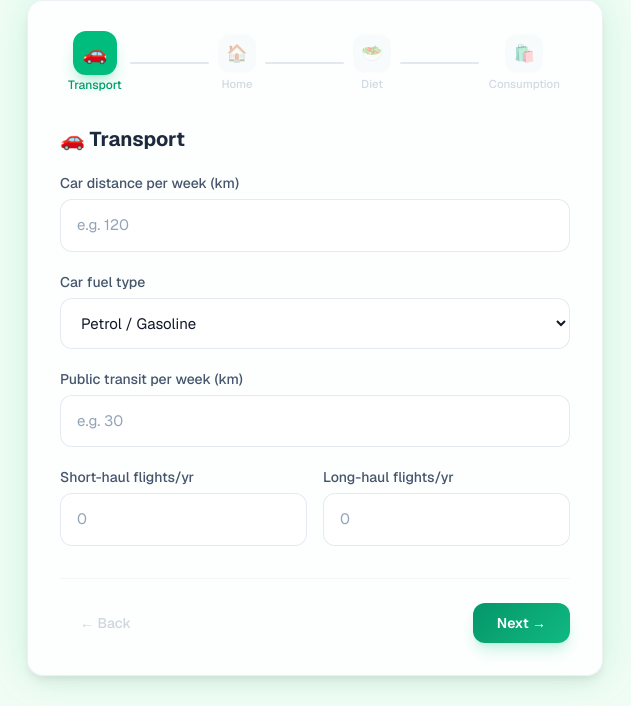
CarbonForm › navigates back from step 2
The width and height of the screenshot is (631, 706).
Click the button "Next →".
click(521, 622)  # box [473,602,570,642]
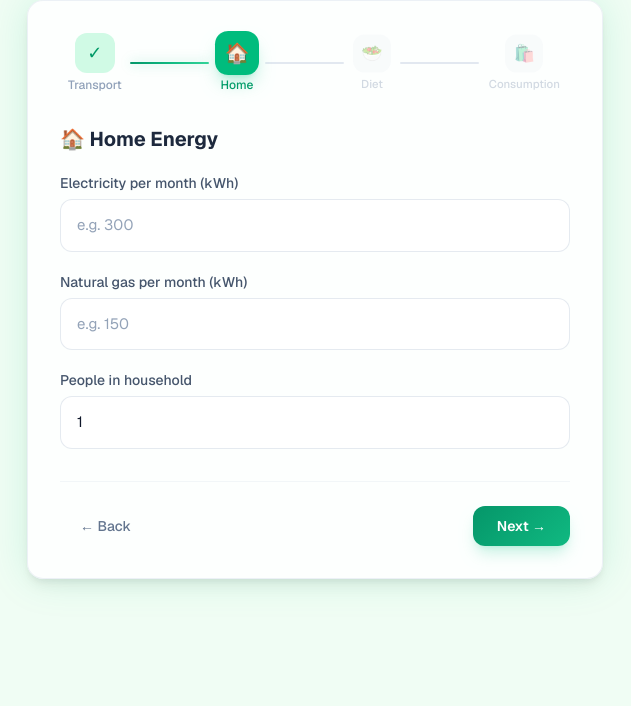
Click the button "← Back".
click(106, 526)  # box [60,506,151,546]
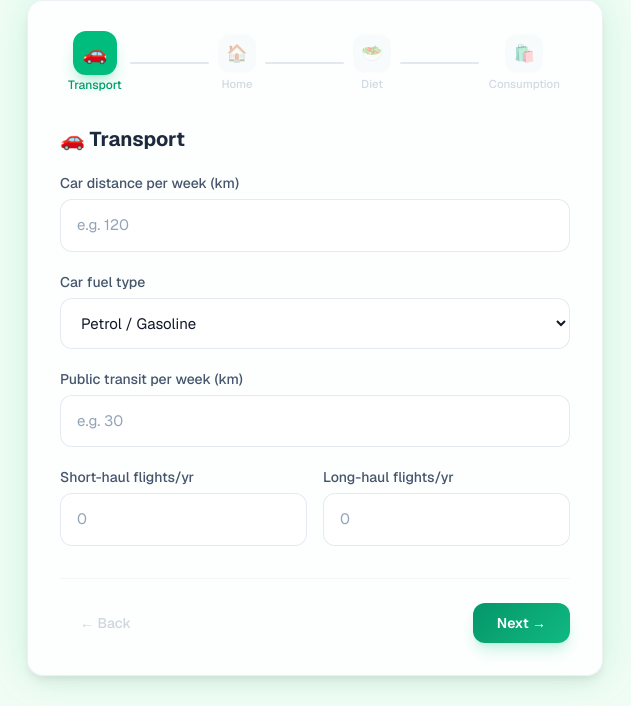
Now the text "🚗 Transport" is shown, box [60,125,185,153]
